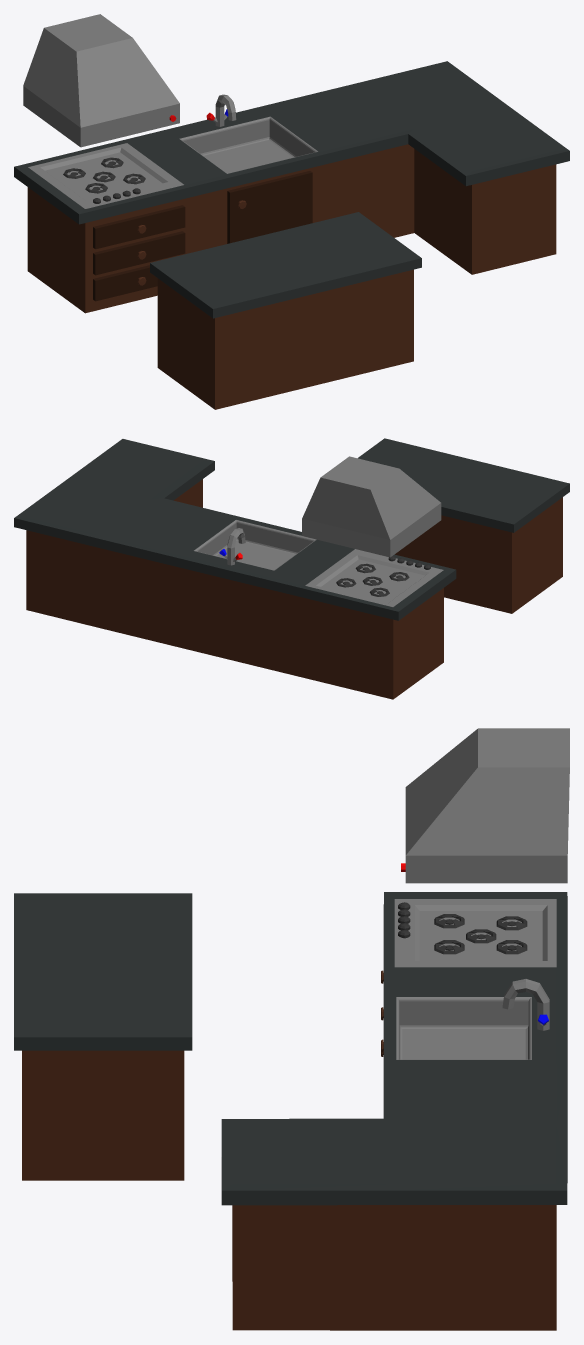
File: kitchen.obj
3 renders of one model, top to bottom at view 1: azimuth 30°, elevation 25°; view 2: azimuth 150°, elevation 25°; view 3: azimuth 270°, elevation 25°, orthographic. The views are drawn at different scales.
Size of the model in its own units: 436 by 226 by 343.
